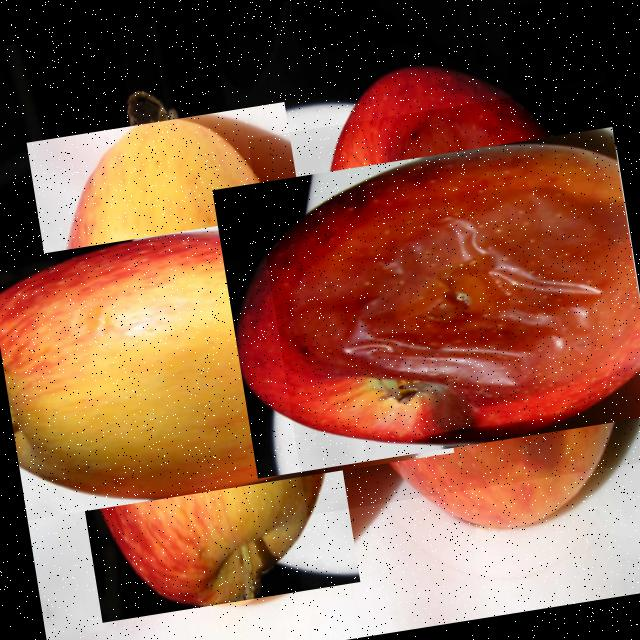Fresh Apple: (0, 148, 409, 578)
Rotten Apple: (248, 82, 639, 517)
